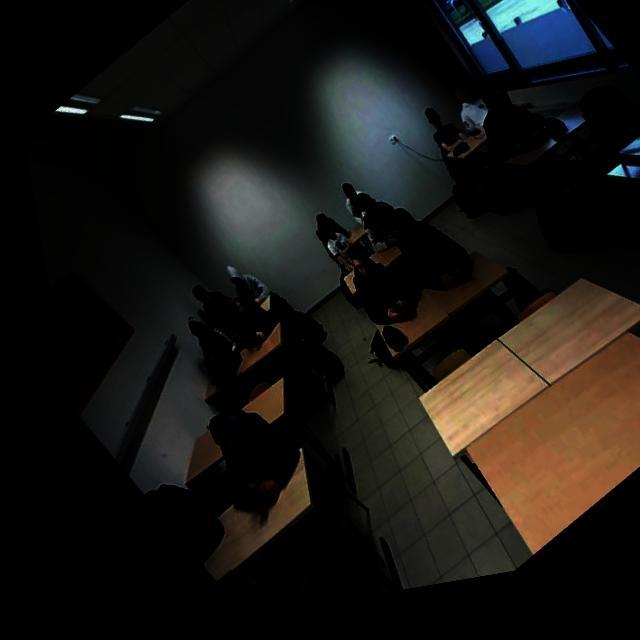phone_use: (357, 201, 470, 322), (187, 410, 298, 521), (317, 215, 420, 322), (315, 182, 400, 291), (188, 284, 274, 375), (192, 265, 269, 347), (187, 284, 239, 365)
